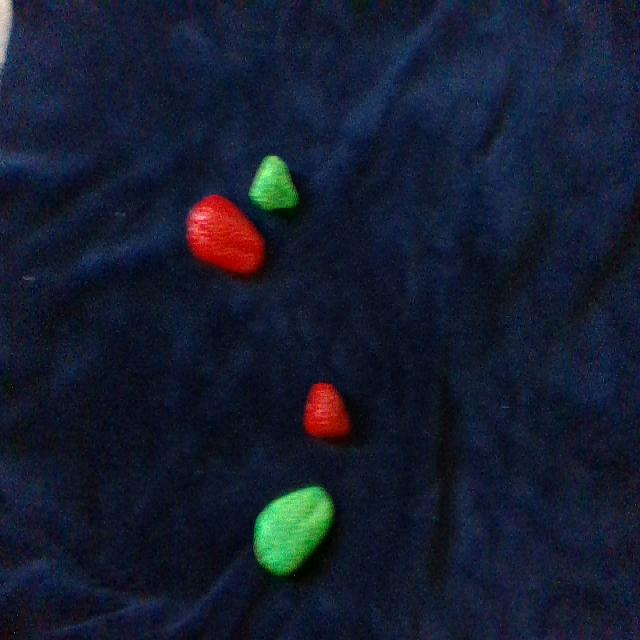chica_roja: (303, 383, 350, 439)
grande_roja: (187, 196, 264, 275)
verde: (254, 487, 334, 575), (249, 156, 298, 208)
